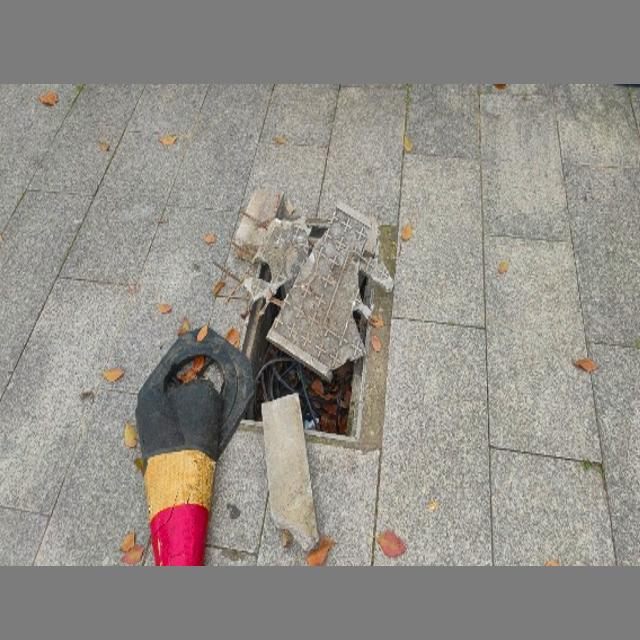broke: (231, 184, 377, 441)
